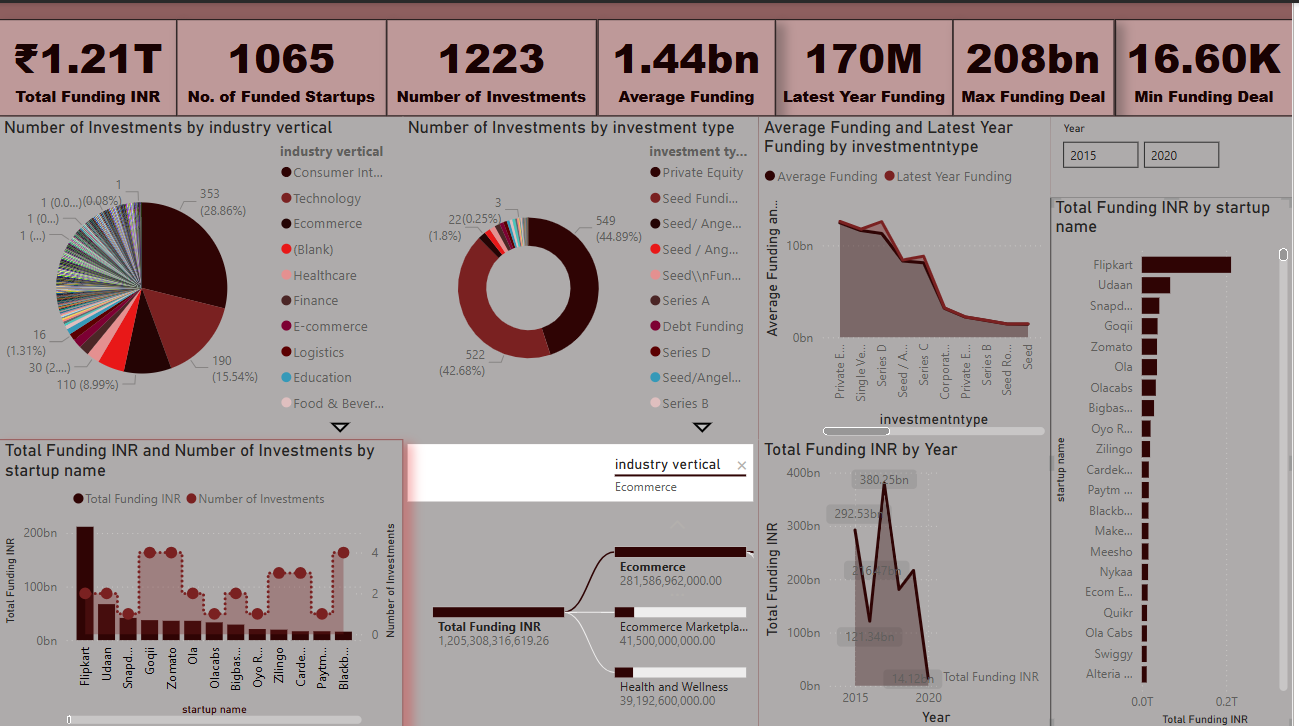

What the dashboard file says about the page in this screenshot:
{"tool":"powerbi","page":{"name":"Page 1","canvas":[1280,720],"ordinal":0},"visuals":[{"type":"card","fields":{"Values":["startup_funding_final_processed.Total Funding INR"]},"box":[0,16,176,96],"z":0},{"type":"card","fields":{"Values":["startup_funding_final_processed.Number of Funded Startups"]},"box":[176,16,208,96],"z":1000},{"type":"card","fields":{"Values":["startup_funding_final_processed.Number of Investments"]},"box":[384,16,208,96],"z":2000},{"type":"card","fields":{"Values":["startup_funding_final_processed.Latest Year Funding"]},"box":[768,16,176,96],"z":3000},{"type":"card","fields":{"Values":["startup_funding_final_processed.Average Funding"]},"box":[592,16,176,96],"z":4000},{"type":"card","fields":{"Values":["startup_funding_final_processed.Min Funding Deal"]},"box":[1104,16,176,96],"z":5000},{"type":"card","fields":{"Values":["startup_funding_final_processed.Max Funding Deal"]},"box":[944,16,160,96],"z":6000},{"type":"lineChart","fields":{"Category":["startup_funding_final_processed.Year"],"Y":["startup_funding_final_processed.Total Funding INR"]},"box":[752,432,288,288],"z":7000},{"type":"pieChart","fields":{"Category":["startup_funding_final_processed.industry vertical"],"Y":["startup_funding_final_processed.Number of Investments"]},"box":[0,112,400,320],"z":8000},{"type":"decompositionTreeVisual","fields":{"Analyze":["startup_funding_final_processed.Total Funding INR"],"ExplainBy":["startup_funding_final_processed.industry vertical","startup_funding_final_processed.city  location","startup_funding_final_processed.Year"]},"box":[400,432,352,288],"z":9000},{"type":"donutChart","fields":{"Category":["startup_funding_final_processed.investmentntype"],"Y":["startup_funding_final_processed.Number of Investments"]},"box":[400,112,352,320],"z":10000},{"type":"clusteredBarChart","fields":{"Category":["startup_funding_final_processed.startup name"],"Y":["startup_funding_final_processed.Total Funding INR"]},"box":[1040,192,240,528],"z":11000},{"type":"slicer","fields":{"Values":["startup_funding_final_processed.Year"]},"box":[1040,112,240,80],"z":12000},{"type":"stackedAreaChart","fields":{"Category":["startup_funding_final_processed.investmentntype"],"Y":["startup_funding_final_processed.Average Funding","startup_funding_final_processed.Latest Year Funding"]},"box":[752,112,288,320],"z":13000},{"type":"lineStackedColumnComboChart","fields":{"Category":["startup_funding_final_processed.startup name"],"Y2":["startup_funding_final_processed.Number of Investments"],"Y":["startup_funding_final_processed.Total Funding INR"]},"box":[0,432,400,288],"z":13001}]}

Visuals, with their boxes in screenshot pixels (x1, y1, x2, y2), scaled from the page's 1280x720 canvas onto the 1299x726 screenshot:
card - startup_funding_final_processed.Total Funding INR: 0,16,179,113
card - startup_funding_final_processed.Number of Funded Startups: 179,16,390,113
card - startup_funding_final_processed.Number of Investments: 390,16,601,113
card - startup_funding_final_processed.Latest Year Funding: 779,16,958,113
card - startup_funding_final_processed.Average Funding: 601,16,779,113
card - startup_funding_final_processed.Min Funding Deal: 1120,16,1298,113
card - startup_funding_final_processed.Max Funding Deal: 958,16,1120,113
lineChart - startup_funding_final_processed.Year x startup_funding_final_processed.Total Funding INR: 763,436,1055,725
pieChart - startup_funding_final_processed.industry vertical x startup_funding_final_processed.Number of Investments: 0,113,406,436
decompositionTreeVisual - startup_funding_final_processed.Total Funding INR x startup_funding_final_processed.industry vertical: 406,436,763,725
donutChart - startup_funding_final_processed.investmentntype x startup_funding_final_processed.Number of Investments: 406,113,763,436
clusteredBarChart - startup_funding_final_processed.startup name x startup_funding_final_processed.Total Funding INR: 1055,194,1298,725
slicer - startup_funding_final_processed.Year: 1055,113,1298,194
stackedAreaChart - startup_funding_final_processed.investmentntype x startup_funding_final_processed.Average Funding: 763,113,1055,436
lineStackedColumnComboChart - startup_funding_final_processed.startup name x startup_funding_final_processed.Number of Investments: 0,436,406,725
